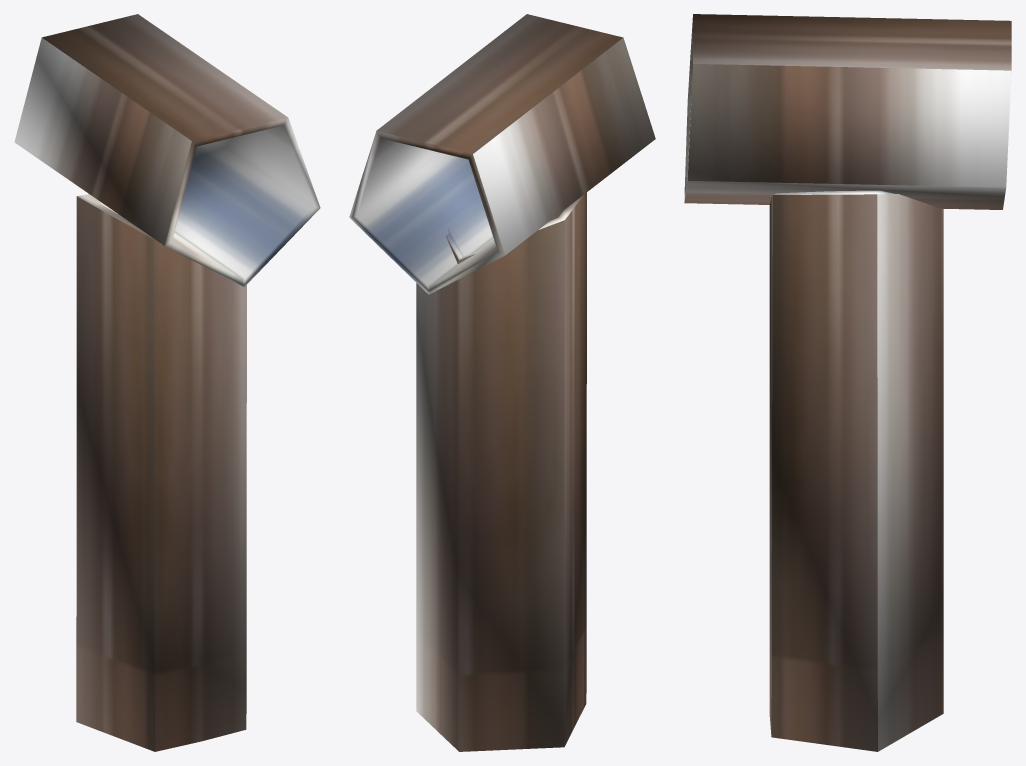
File: yk_katto_lvi_tuuletusaukko2_t-putki.fbx
The picture shows the model from 3 angles, left to right: view 1: azimuth 30°, elevation 25°; view 2: azimuth 150°, elevation 25°; view 3: azimuth 270°, elevation 25°; orthographic projection. The views are drawn at different scales.
Parts seen in each view (by area): view 1: Cylinder; view 2: Cylinder; view 3: Cylinder.
Boxes of the visible parts, x1=… form: Cylinder: x1=14, y1=14, x2=320, y2=751; Cylinder: x1=349, y1=14, x2=655, y2=751; Cylinder: x1=684, y1=14, x2=1011, y2=751.
Bounding box in the file's own units: 14.62 × 57.17 × 25.08.
